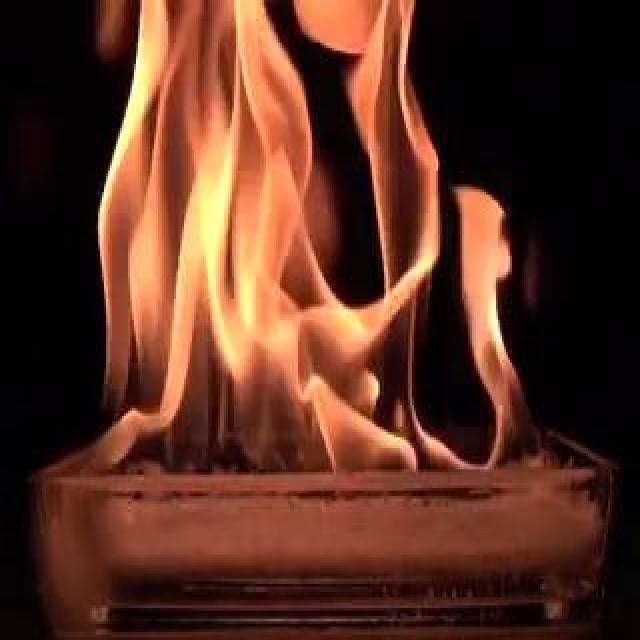Fire: (72, 2, 546, 466)
